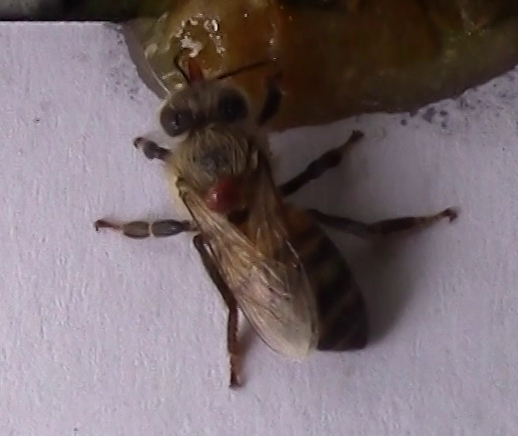Varroa destructor: (203, 172, 247, 214)
